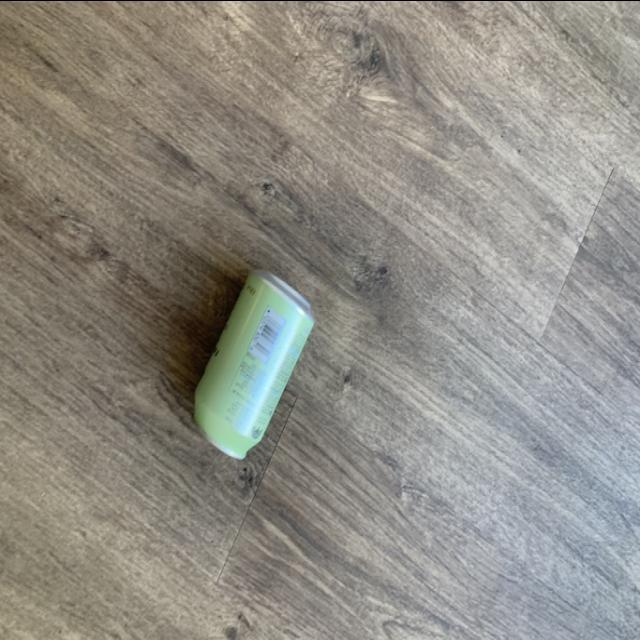Aluminum Can: (190, 244, 318, 468)
